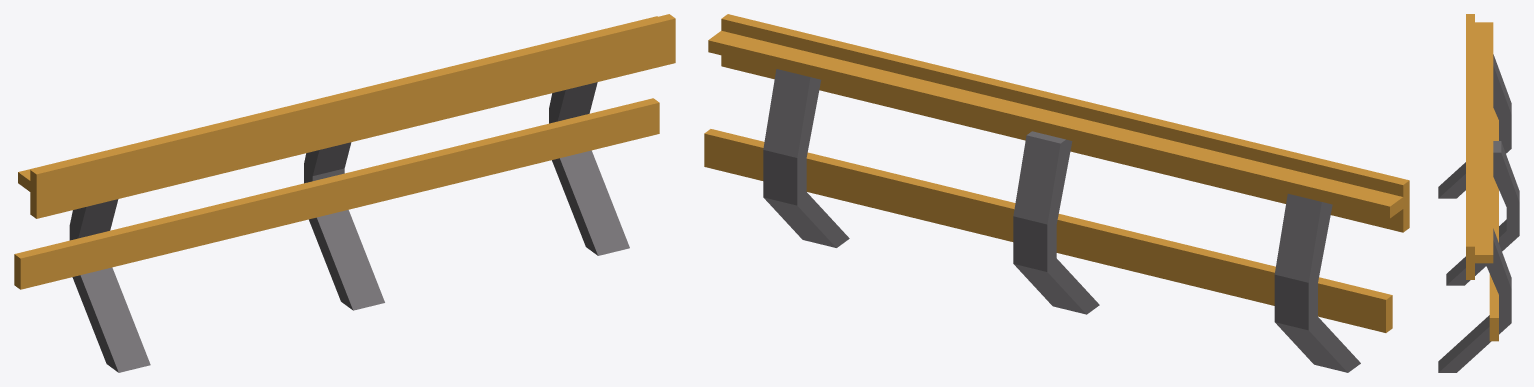
File: scifi_fence.fbx
The picture shows the model from 3 angles, left to right: view 1: azimuth 30°, elevation 25°; view 2: azimuth 150°, elevation 25°; view 3: azimuth 270°, elevation 25°; orthographic projection. The views are drawn at different scales.
Visible parts, largest first — view 1: Cube.058; view 2: Cube.058; view 3: Cube.058.
Boxes of the visible parts, x1=… form: Cube.058: x1=14, y1=14, x2=675, y2=372; Cube.058: x1=704, y1=14, x2=1409, y2=372; Cube.058: x1=1438, y1=14, x2=1519, y2=372.
Size of the model in its own units: 3 by 0.9 by 0.4425.
